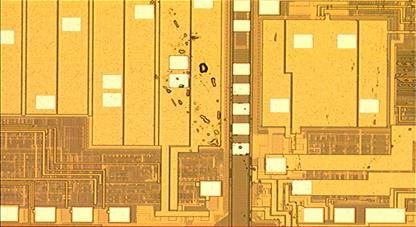SCRATCH: (148, 1, 414, 225)
